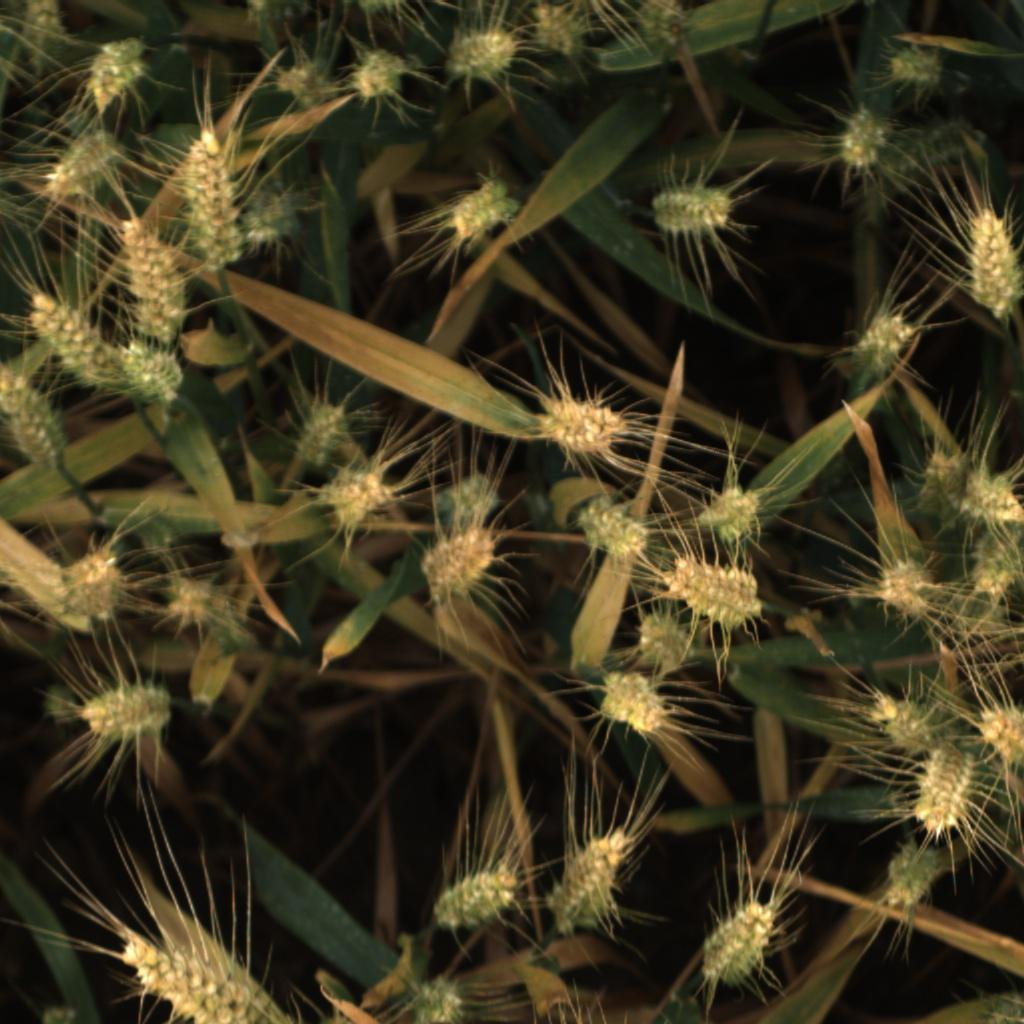0-0: (117, 937, 263, 1024), (24, 281, 127, 394), (113, 217, 193, 352), (546, 824, 645, 933), (183, 128, 247, 273), (866, 683, 970, 764), (666, 548, 762, 631), (0, 368, 74, 474), (701, 896, 780, 990), (878, 117, 989, 182), (960, 209, 1024, 317), (413, 528, 499, 605), (909, 749, 980, 840), (43, 125, 123, 205), (535, 392, 627, 457), (78, 680, 174, 742), (430, 868, 520, 934), (597, 666, 676, 741), (83, 32, 151, 115), (844, 299, 919, 374), (113, 335, 186, 409), (572, 494, 651, 561), (57, 549, 125, 626), (319, 464, 395, 529), (289, 398, 356, 471), (641, 184, 731, 238), (447, 177, 524, 240), (444, 23, 519, 87), (631, 605, 701, 673), (868, 554, 938, 622), (699, 479, 770, 546), (428, 473, 499, 537), (877, 849, 939, 922), (831, 105, 893, 178), (960, 536, 1022, 604), (344, 49, 415, 108), (913, 446, 971, 517), (526, 2, 589, 64), (269, 57, 337, 114), (966, 476, 1024, 541), (243, 188, 298, 255), (970, 701, 1024, 769), (947, 580, 1010, 638), (20, 0, 70, 73), (408, 972, 473, 1024), (882, 46, 953, 93), (634, 1, 695, 54), (160, 574, 218, 628), (132, 511, 180, 558), (241, 0, 313, 28), (42, 684, 81, 726), (981, 989, 1024, 1024), (356, 0, 409, 16), (37, 1003, 77, 1023)
